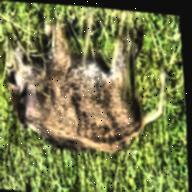boar: (0, 9, 168, 171)
